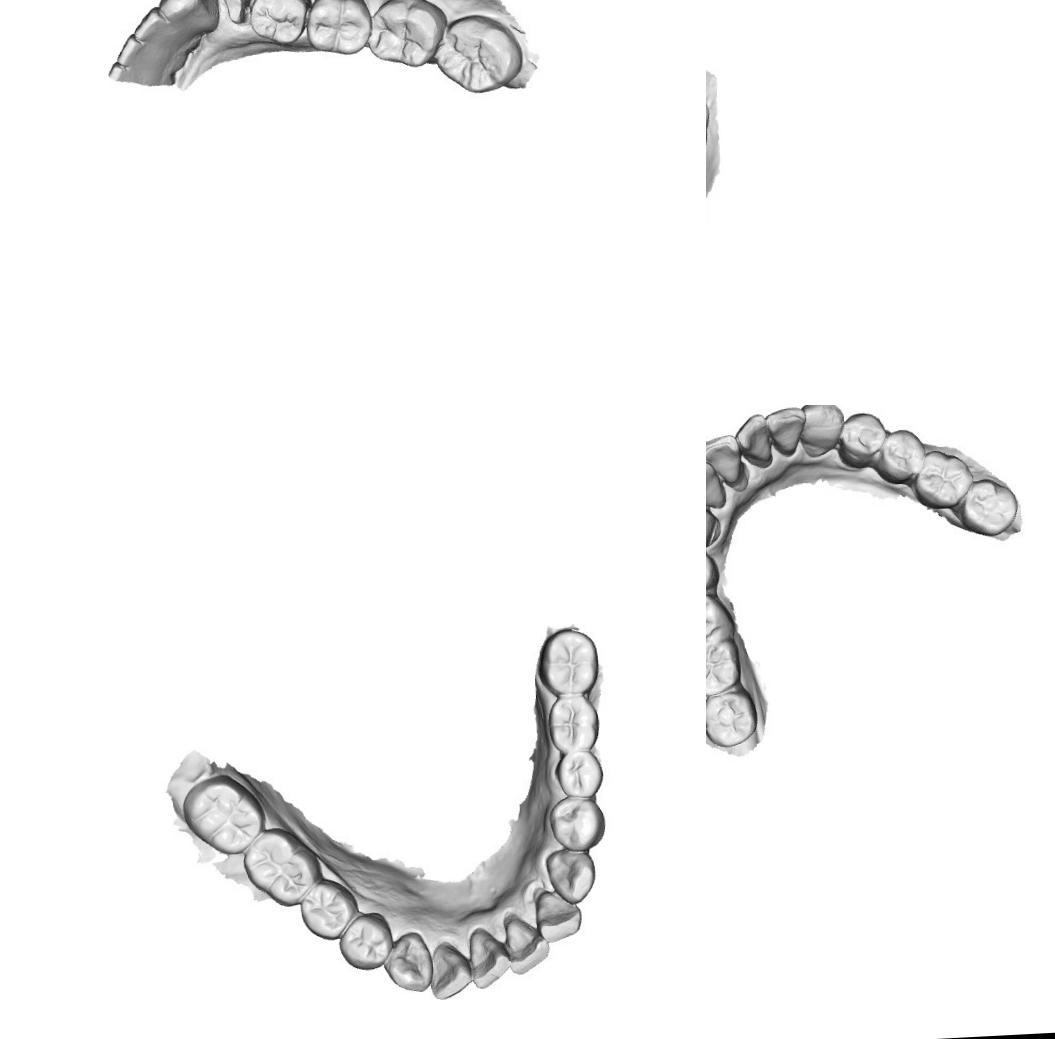canine: (382, 928, 434, 996), (543, 847, 598, 904), (156, 0, 219, 43), (798, 405, 846, 453)
crown: (220, 0, 254, 24)
incisor: (505, 915, 551, 976), (428, 940, 472, 1003), (466, 928, 508, 990), (536, 890, 584, 943), (733, 410, 776, 466), (706, 431, 746, 489), (764, 405, 807, 454), (132, 7, 172, 50), (114, 31, 151, 72), (706, 457, 727, 510)
molar: (428, 13, 522, 96), (181, 771, 267, 857), (242, 825, 320, 909), (364, 0, 449, 70), (912, 446, 976, 511), (960, 475, 1021, 538), (544, 692, 600, 756), (307, 0, 372, 55), (706, 686, 758, 750), (543, 632, 594, 693), (706, 634, 744, 696)
premolar: (297, 877, 359, 942), (336, 909, 395, 972), (549, 796, 606, 853), (835, 408, 889, 463), (248, 0, 309, 48), (876, 426, 927, 480), (554, 750, 604, 799), (706, 589, 729, 643)
